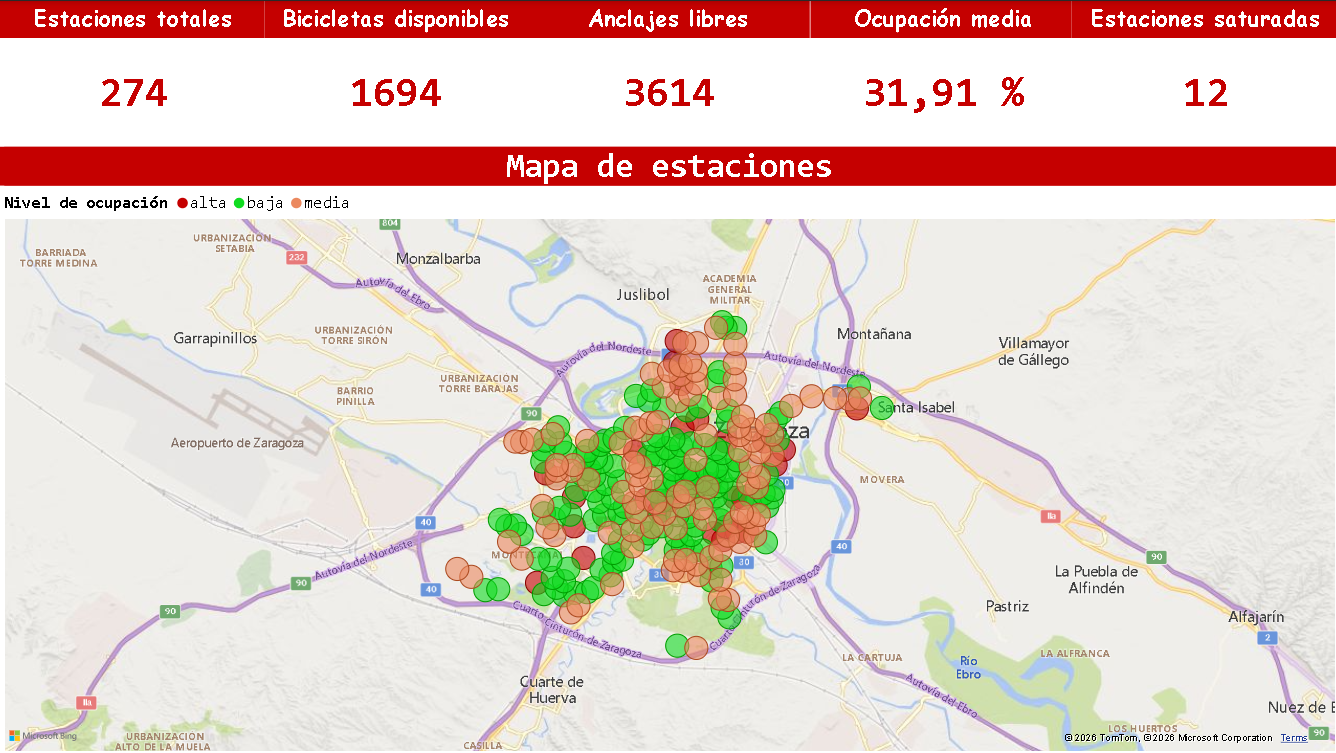

The dashboard page shown, as its layout file describes it:
{"tool":"powerbi","page":{"name":"Vista General","canvas":[1280,720],"ordinal":1},"visuals":[{"type":"card","title":"Estaciones totales ","fields":{"Values":["Count(bizi_clean.station_id)"]},"box":[0,0,255.4,138.3],"z":0},{"type":"card","title":"Bicicletas disponibles ","fields":{"Values":["Sum(bizi_clean.bikes)"]},"box":[253.7,0,250.5,138.3],"z":2000},{"type":"card","title":"Anclajes libres","fields":{"Values":["Sum(bizi_clean.slots)"]},"box":[504.2,0,270,138.3],"z":3000},{"type":"card","title":"Ocupación media","fields":{"Values":["bizi_clean.Ocupación Media"]},"box":[774.2,0,253.7,138.3],"z":4000},{"type":"card","title":"Estaciones saturadas","fields":{"Values":["bizi_clean.Estaciones Saturadas"]},"box":[1024.7,0,255.4,138.3],"z":5000},{"type":"map","title":"Mapa de estaciones","fields":{"Series":["bizi_clean.ocupacion_categoria"],"Y":["bizi_clean.lat"],"X":["bizi_clean.lon"]},"box":[0,138.3,1280.1,582.3],"z":6000}]}

Visuals, with their boxes in screenshot pixels (x1, y1, x2, y2), scaled from the page's 1280x720 canvas onto the 1336x753 screenshot:
"Estaciones totales " card: x1=0, y1=0, x2=267, y2=145
"Bicicletas disponibles " card: x1=265, y1=0, x2=526, y2=145
"Anclajes libres" card: x1=526, y1=0, x2=808, y2=145
"Ocupación media" card: x1=808, y1=0, x2=1073, y2=145
"Estaciones saturadas" card: x1=1070, y1=0, x2=1335, y2=145
"Mapa de estaciones" map: x1=0, y1=145, x2=1335, y2=752
